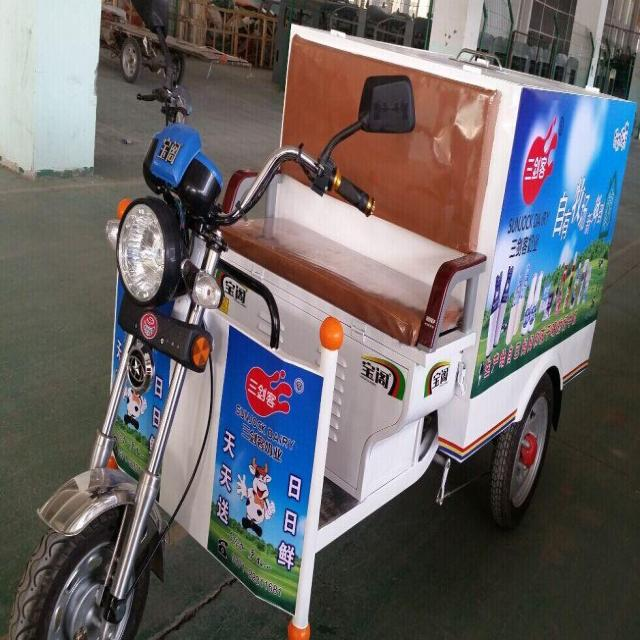tricycle: (3, 4, 633, 639)
